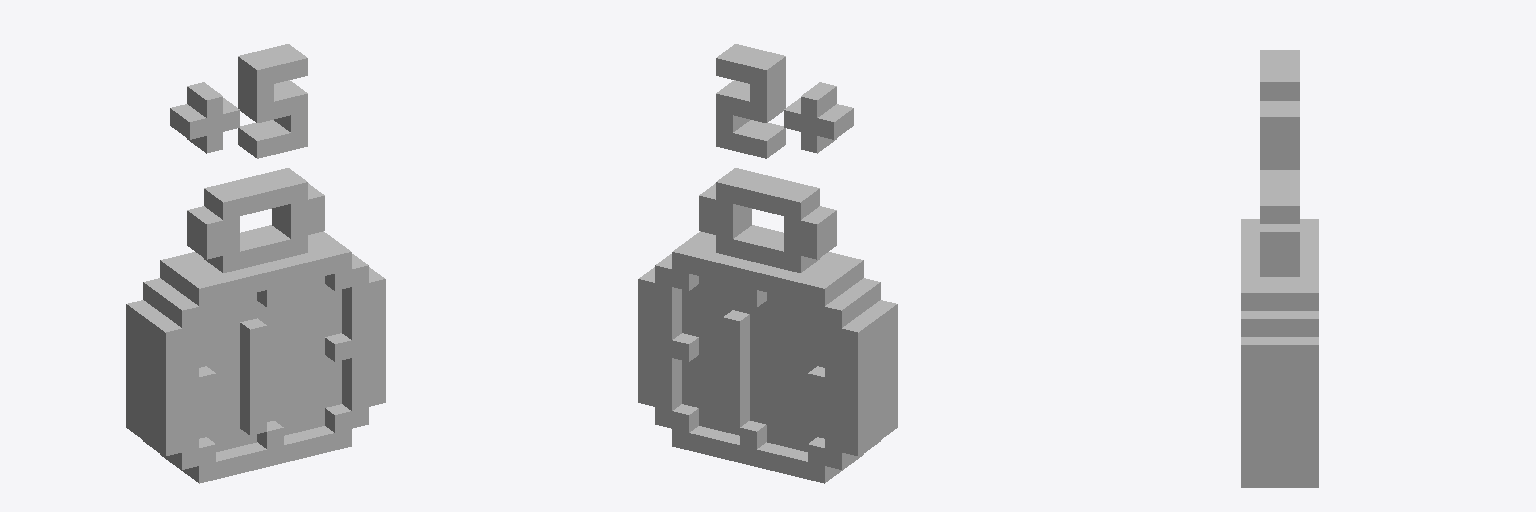
File: Stopwatch 2.obj
3 renders of one model, left to right at view 1: azimuth 30°, elevation 25°; view 2: azimuth 150°, elevation 25°; view 3: azimuth 270°, elevation 25°, orthographic.
Visible parts, largest first — view 1: object 1; view 2: object 1; view 3: object 1.
Part boxes in pixels (x1,y1,x2,y2): object 1: (126, 44, 385, 483); object 1: (638, 44, 897, 483); object 1: (1241, 50, 1318, 487).
Size of the model in its own units: 1.3 by 2.2 by 0.4.